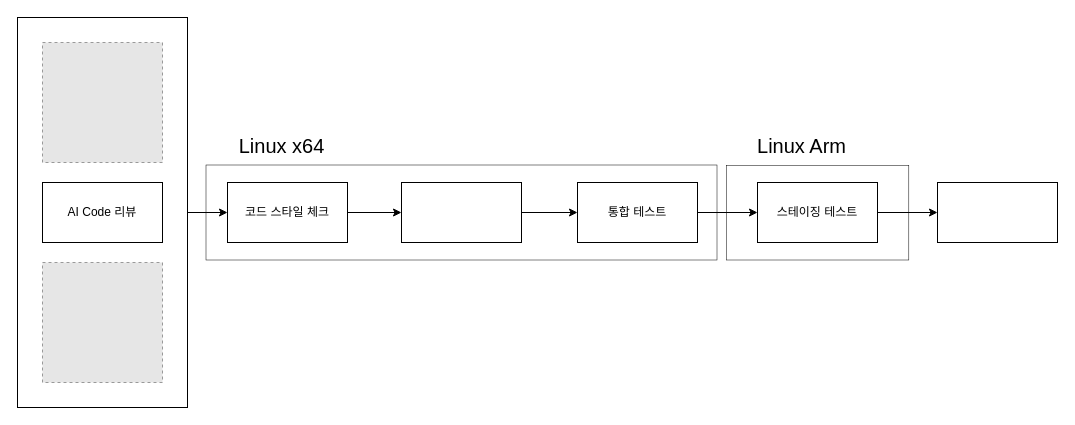
Image size: 1075x425. Some labels were removed from this diagram. Grey dashed boxes stand in for pictures. The box of each missing label's shape, as (x1, y1, x2, y2) in pixels:
개발 메신저 전달: (936, 182, 1058, 242)
단위 테스트: (400, 182, 522, 242)
